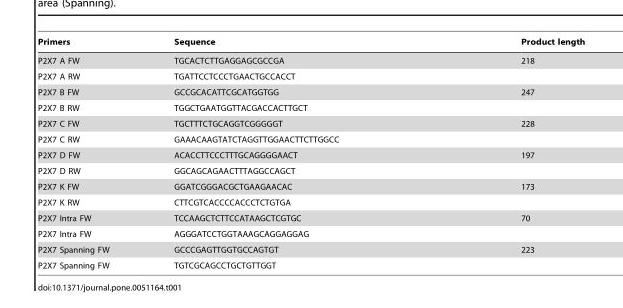table: (36, 37, 584, 269)
table column: (140, 37, 429, 269), (429, 37, 584, 269), (36, 37, 140, 269)
table column header: (36, 37, 584, 51)
table row: (36, 51, 584, 68), (36, 68, 584, 84), (36, 99, 584, 115), (36, 115, 584, 131), (36, 131, 584, 147), (36, 162, 584, 178), (36, 178, 584, 194), (36, 194, 584, 210), (36, 225, 584, 241), (36, 241, 584, 257), (36, 84, 584, 99), (36, 147, 584, 162), (36, 210, 584, 225), (36, 37, 584, 51), (36, 257, 584, 269)
